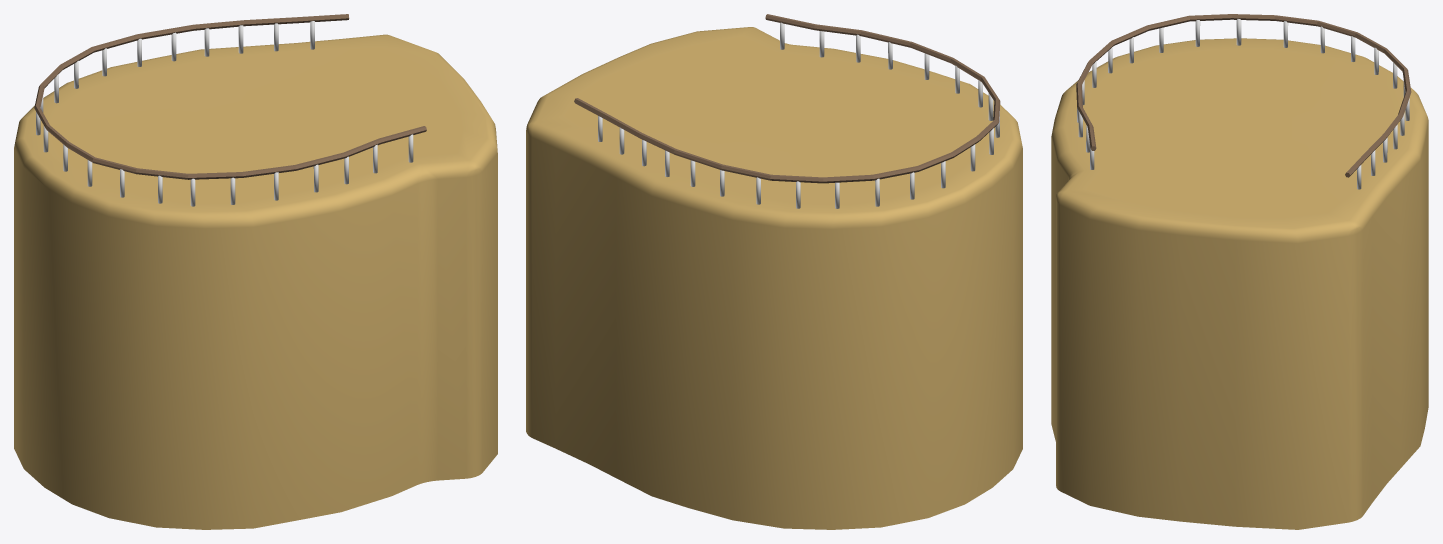
The model's file is Map_03_ButterSaltt.fbx.
The picture shows the model from 3 angles, left to right: view 1: azimuth 30°, elevation 25°; view 2: azimuth 150°, elevation 25°; view 3: azimuth 270°, elevation 25°; orthographic projection. The views are drawn at different scales.
Parts seen in each view (by area): view 1: Map_Land_03_BurtterSalt; view 2: Map_Land_03_BurtterSalt; view 3: Map_Land_03_BurtterSalt.
Boxes of the visible parts, box(x1,y1,x2,y2) form: Map_Land_03_BurtterSalt: box(14, 14, 497, 529); Map_Land_03_BurtterSalt: box(526, 14, 1022, 529); Map_Land_03_BurtterSalt: box(1051, 14, 1428, 529).
Bounding box in the file's own units: 40.36 × 31.09 × 32.56.
